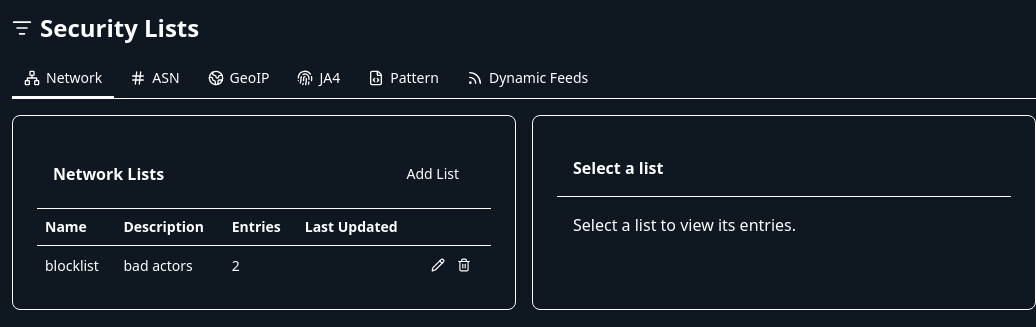
SecurityLists page › switches to GeoIP tab and shows country names with codes
Check: the text "blocklist" is shown, box [37,246,115,285]
Click the button "GeoIP" at (238, 79), box [196,60,281,98]
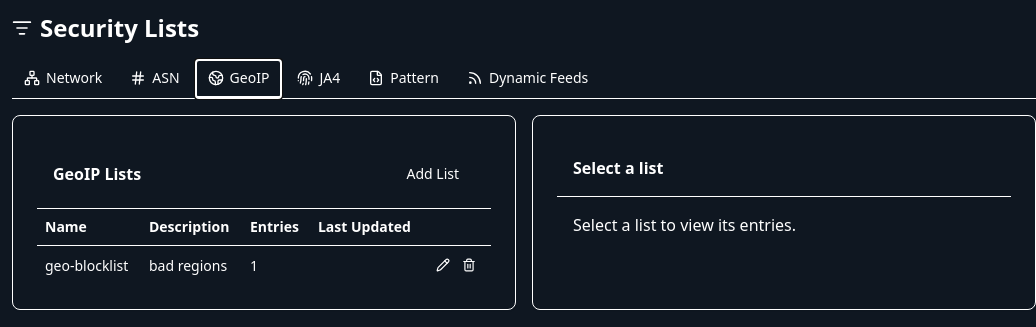
Check: the text "geo-blocklist" is shown
Click the text "geo-blocklist" at (89, 265), box [37,246,141,285]
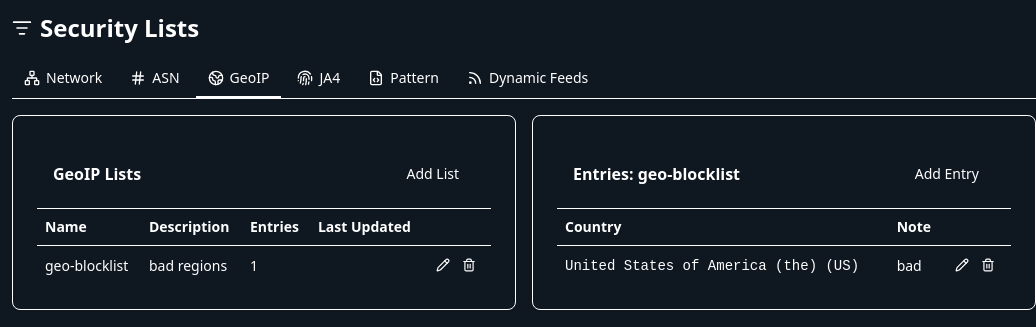
Check: the text "United States of America (the) (US)" is shown, box [557,246,889,285]
Check: the text "bad" is shown, box [889,246,942,285]
